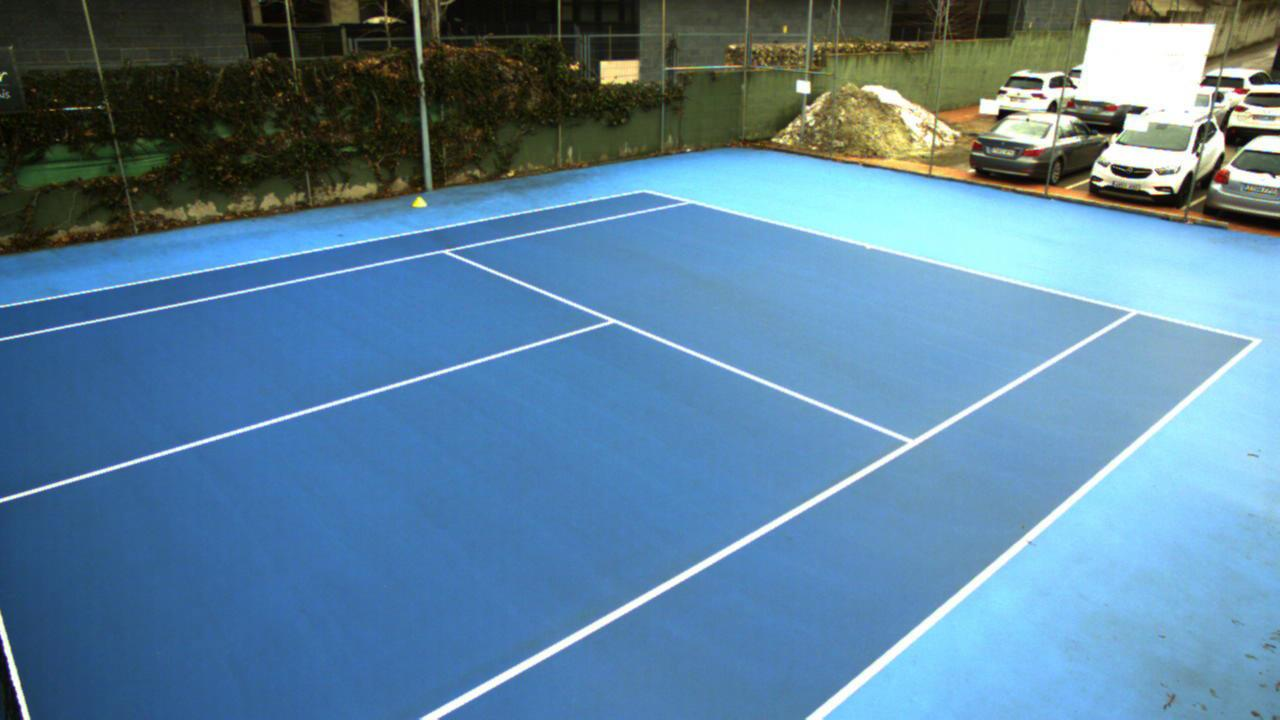cancha_tenis: (0, 199, 1138, 720)
point_f1: (676, 187, 705, 212)
point_f2: (1117, 300, 1150, 327)
point_fc1: (860, 238, 880, 262)
point_i1: (436, 237, 463, 261)
point_i2: (888, 424, 926, 457)
point_ic1: (594, 307, 628, 335)
